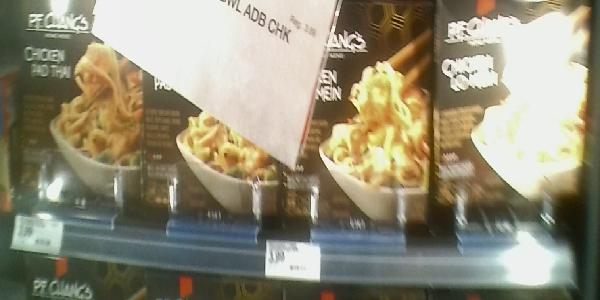pizza1: (433, 1, 597, 226), (143, 1, 291, 222), (292, 1, 430, 229), (16, 1, 142, 219)
